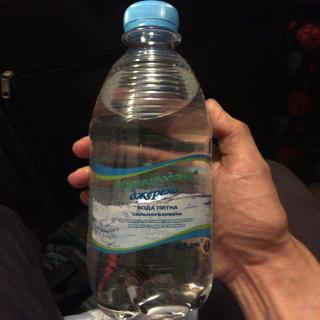Plastic-bottle: (78, 1, 222, 320)
